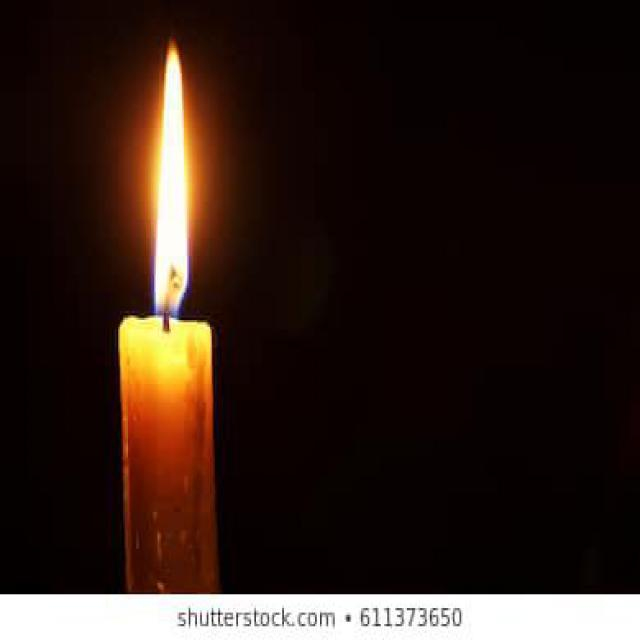Fire: (154, 46, 189, 320)
